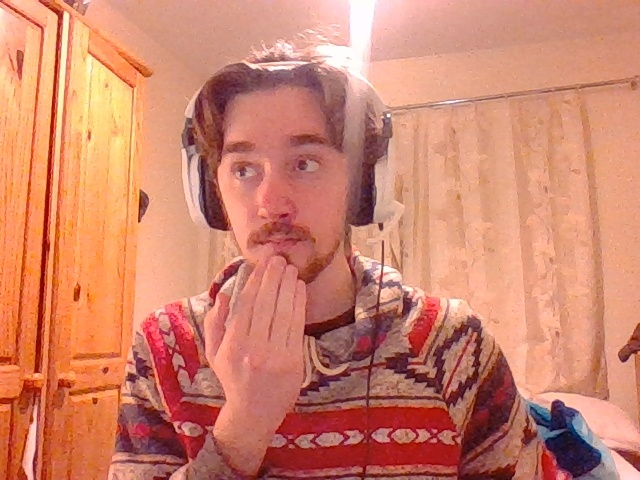thanks: (202, 256, 306, 447)
